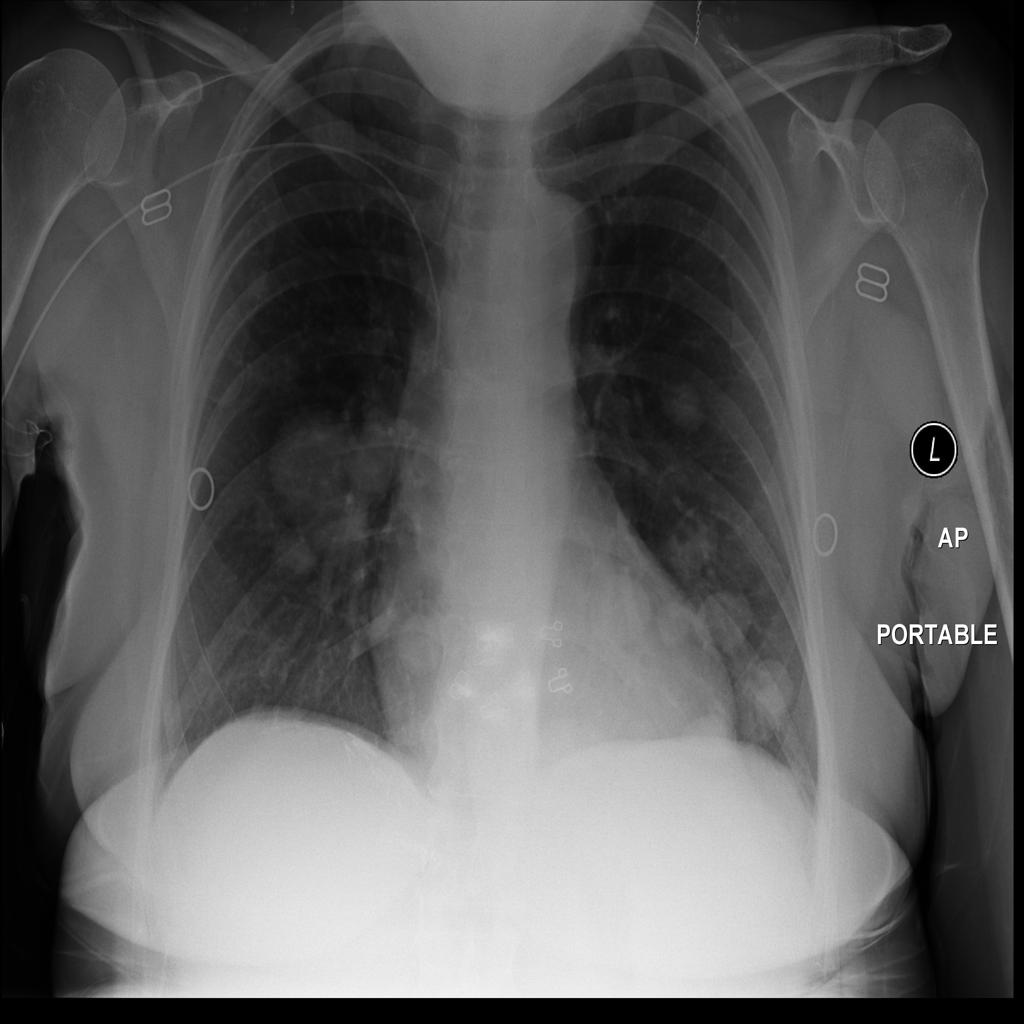nodule: (259, 389, 382, 540), (740, 646, 800, 740), (387, 604, 454, 688), (651, 363, 717, 447), (592, 566, 655, 653), (658, 507, 724, 590), (690, 580, 757, 658), (264, 519, 333, 591), (673, 698, 743, 766), (226, 246, 290, 319), (654, 595, 698, 653)
